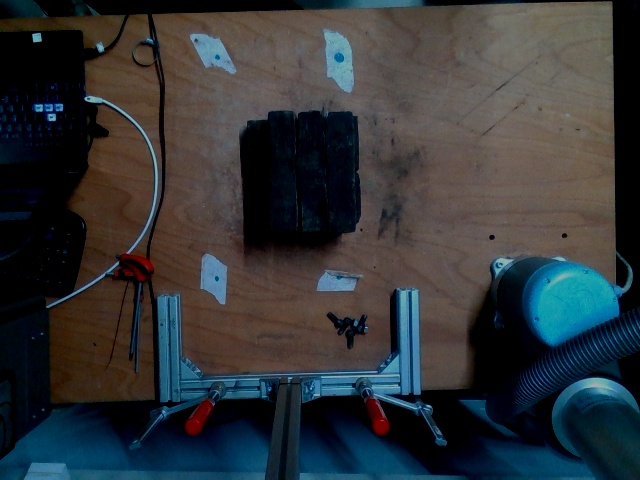brick-side: (326, 112, 354, 230), (298, 111, 326, 229), (269, 112, 296, 230)
